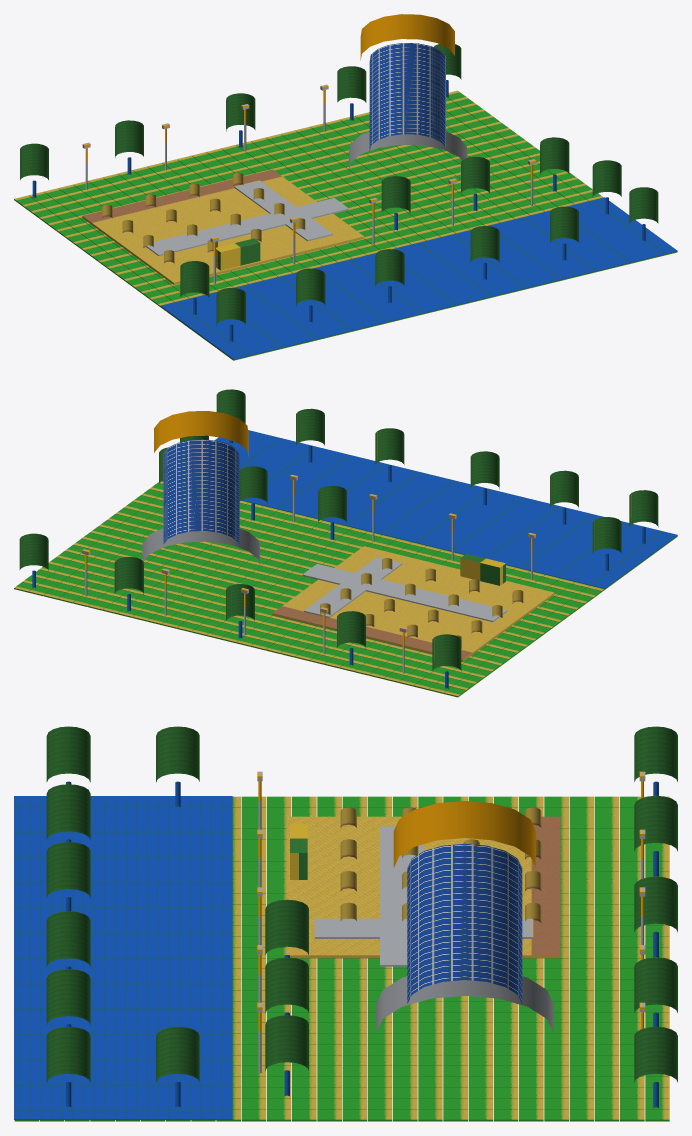
3 renders of one model, top to bottom at view 1: azimuth 30°, elevation 25°; view 2: azimuth 150°, elevation 25°; view 3: azimuth 270°, elevation 25°, orthographic. The views are drawn at different scales.
Parts seen in each view (by area): view 1: 28185_B50_Songdo_Landmark_City_Waterfront_Park; view 2: 28185_B50_Songdo_Landmark_City_Waterfront_Park; view 3: 28185_B50_Songdo_Landmark_City_Waterfront_Park.
Boxes of the visible parts, x1,y1,x2,y2 form: 28185_B50_Songdo_Landmark_City_Waterfront_Park: (14,14,677,360); 28185_B50_Songdo_Landmark_City_Waterfront_Park: (14,389,677,697); 28185_B50_Songdo_Landmark_City_Waterfront_Park: (14,726,677,1121).
Size of the model in its own units: 56 by 16.5 by 48.6.
1 material, 1 textured.
